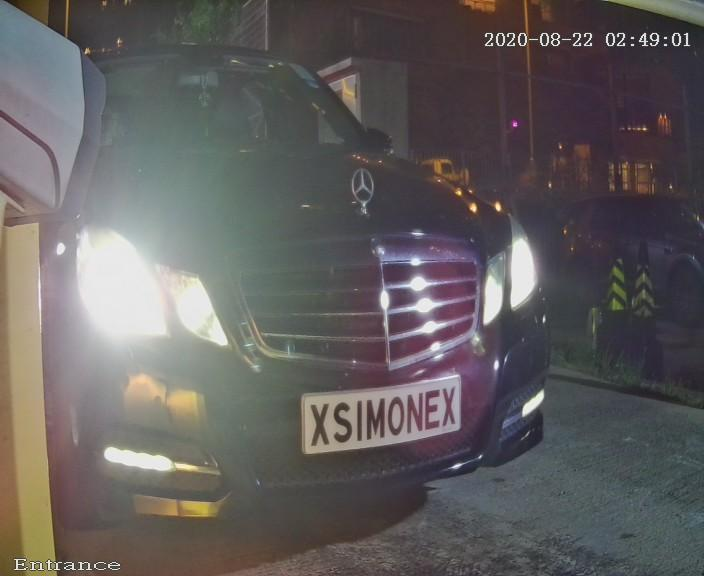License Plate: (284, 359, 477, 466)
